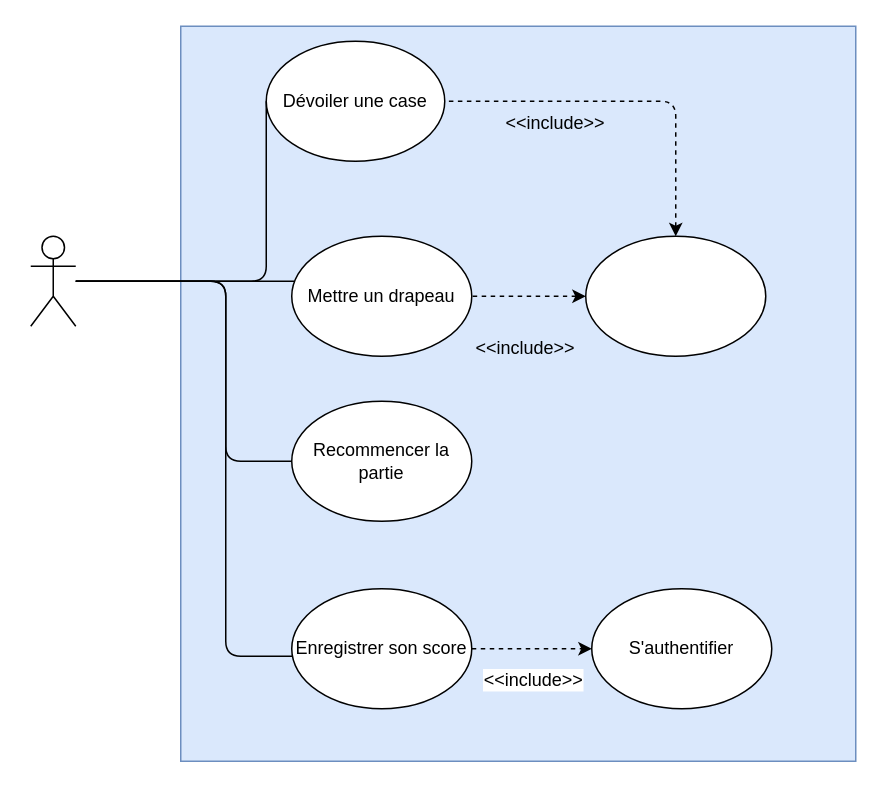
The diagram is 882 pixels wide and 788 high, and some of its shapes have lost their labels. The shapes that lost their labels are listed below. From the top down, each one's centre as x and y in pixels, then its label:
At (x=52, y=280): "Joueur".
At (x=675, y=295): "Lancer une partie".
